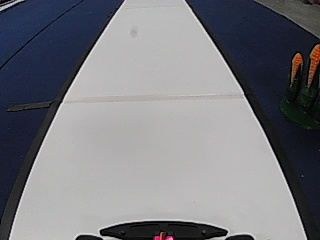corn: (278, 45, 320, 121)
